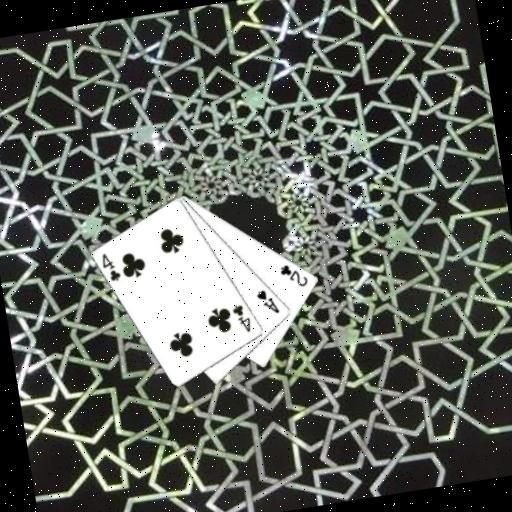2C: (276, 258, 310, 291)
4C: (97, 248, 123, 284), (229, 300, 254, 336)
AS: (253, 284, 281, 318)
